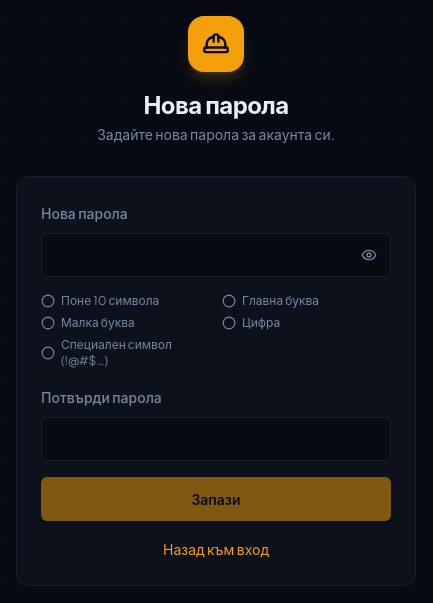
an invalid or expired link turns into 'request a new link'
This screenshot has width=433, height=603.
Type "Brand-New-Pass-77!" into the password field with test id "reset-new-password". click: (216, 255)
box: [41, 233, 391, 277]
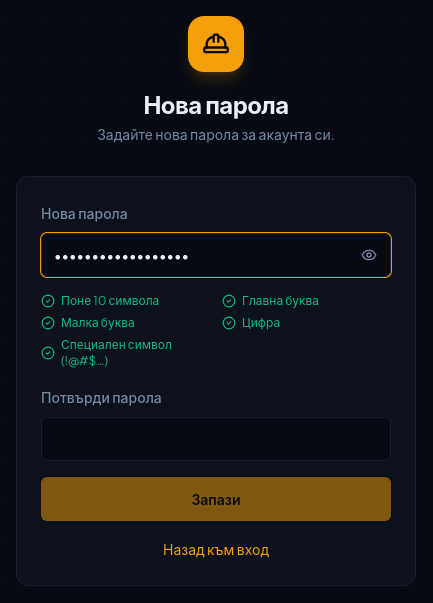
Type "Brand-New-Pass-77!" into the password field with test id "reset-confirm-password". click: (216, 439)
box: [41, 417, 391, 461]
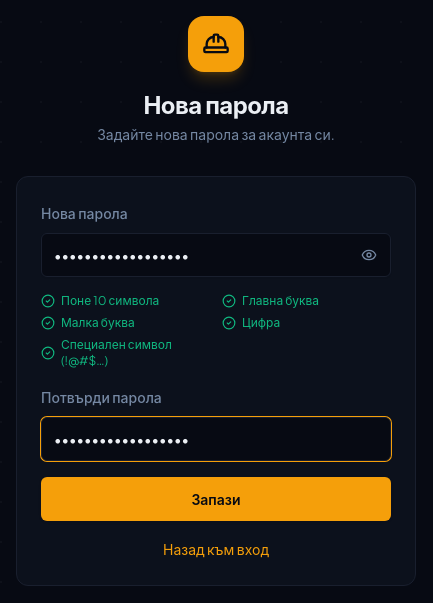
Click the button with test id "reset-submit-button". click: (216, 499)
box: [41, 477, 391, 521]
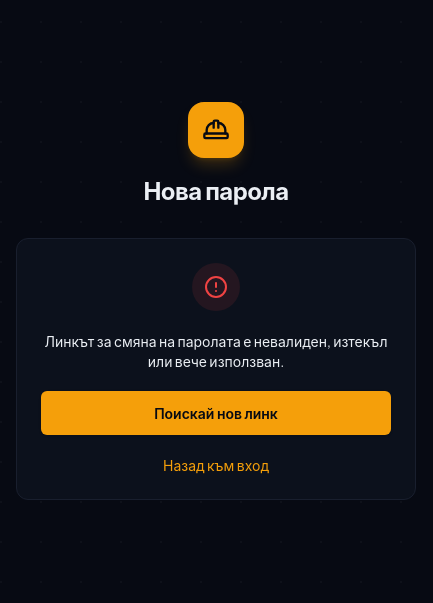
Expected: the element with test id "reset-link-invalid" is shown, [41, 263, 391, 475]
